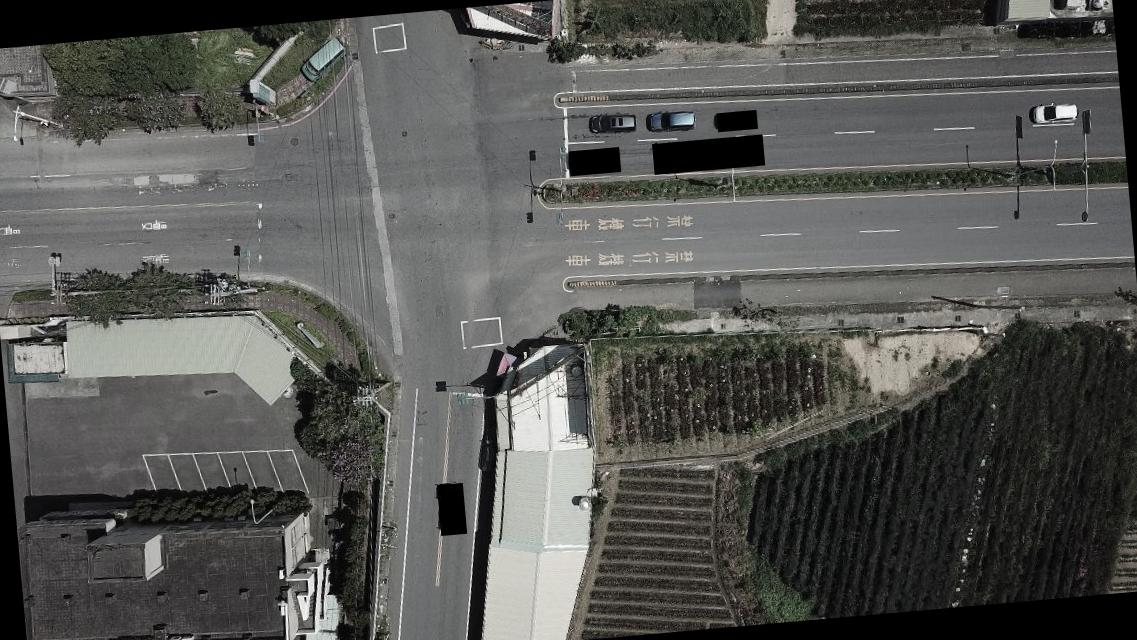vehicle: (298, 36, 348, 84), (587, 110, 637, 138), (1031, 102, 1078, 128), (650, 109, 695, 132)
